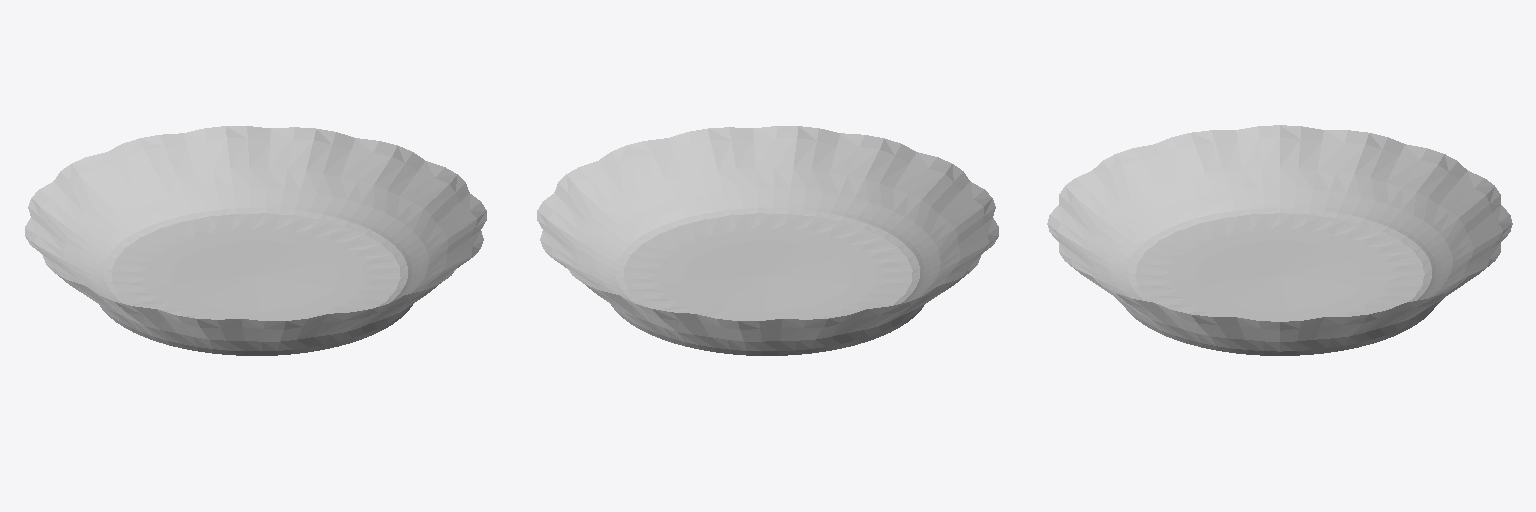
Rendered from Prato2.obj.
The picture shows the model from 3 angles: view 1: azimuth 30°, elevation 25°; view 2: azimuth 150°, elevation 25°; view 3: azimuth 270°, elevation 25°; orthographic projection.
Visible parts, largest first — view 1: Cilindro.001; view 2: Cilindro.001; view 3: Cilindro.001.
Part boxes in pixels (x1,y1,x2,y2): Cilindro.001: (25,126,486,355); Cilindro.001: (537,126,998,355); Cilindro.001: (1047,125,1512,355).
Bounding box in the file's own units: 1.2 × 0.1847 × 1.2.